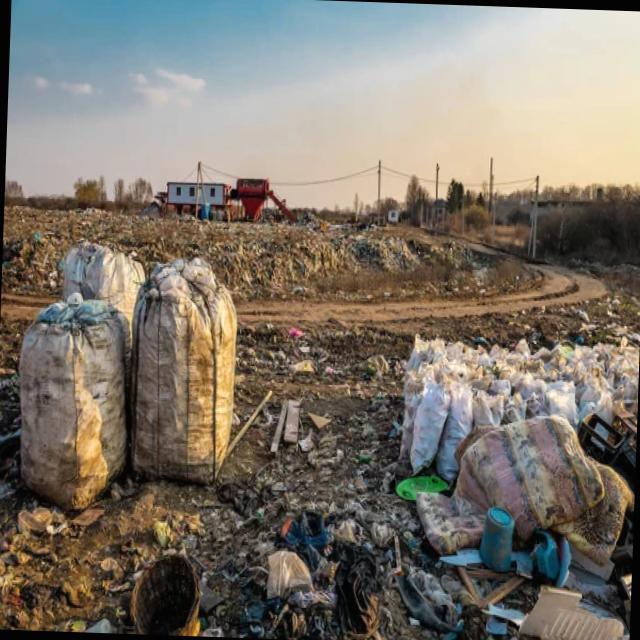garbage: (0, 208, 315, 615), (343, 259, 640, 609)
